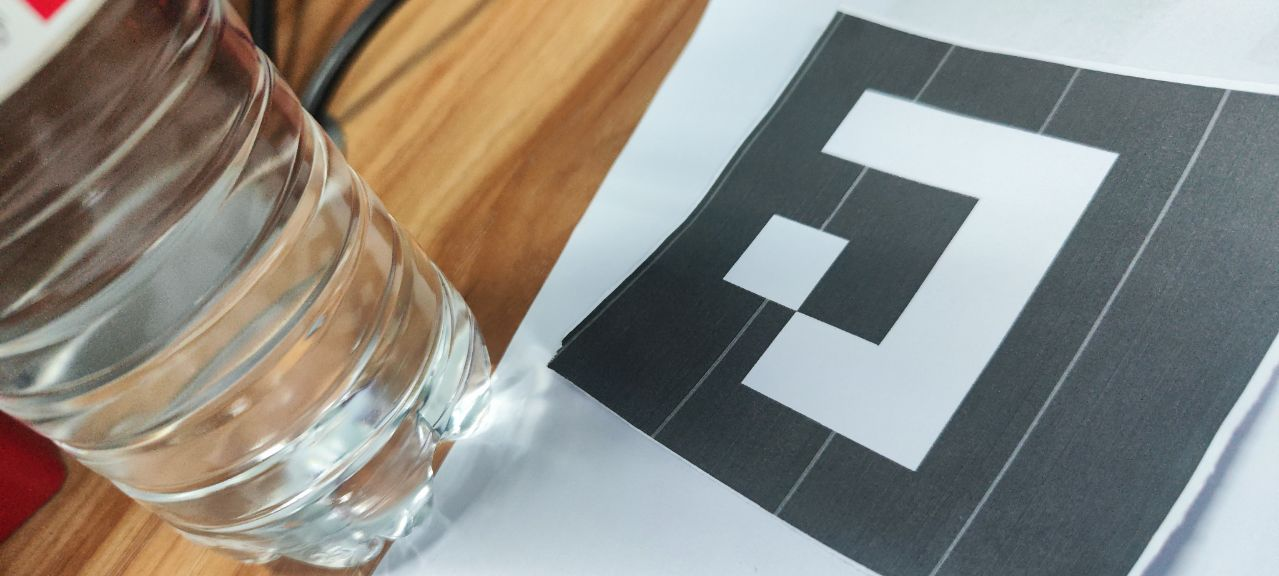mark1: (714, 83, 1123, 483)
